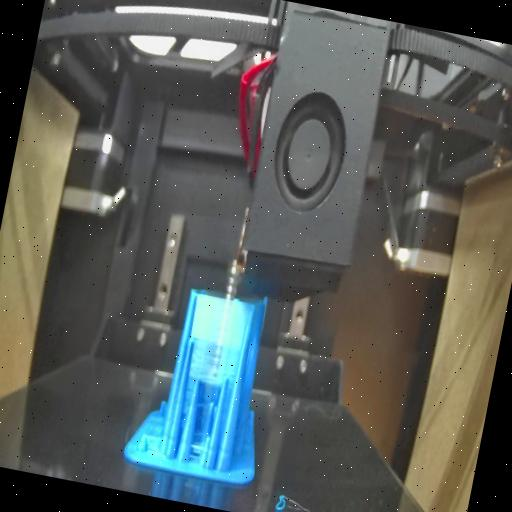stringing: (182, 291, 252, 389), (185, 398, 214, 472)
